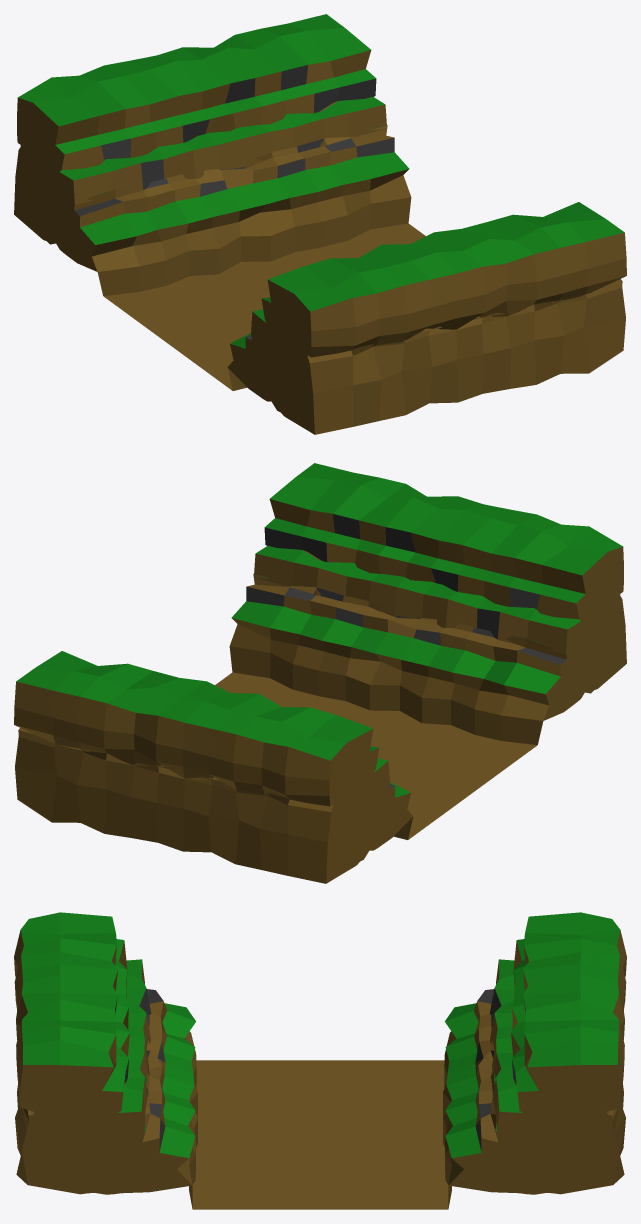
File: greenRavineEmptySide.fbx
3 renders of one model, top to bottom at view 1: azimuth 30°, elevation 25°; view 2: azimuth 150°, elevation 25°; view 3: azimuth 270°, elevation 25°, orthographic.
Parts seen in each view (by area): view 1: greenravine3; view 2: greenravine3; view 3: greenravine3.
Part boxes in pixels (bbox=[...]): greenravine3: bbox=[14, 14, 626, 434]; greenravine3: bbox=[14, 463, 626, 883]; greenravine3: bbox=[14, 912, 626, 1209].
Bounding box in the file's own units: 1356 × 647 × 2300.
